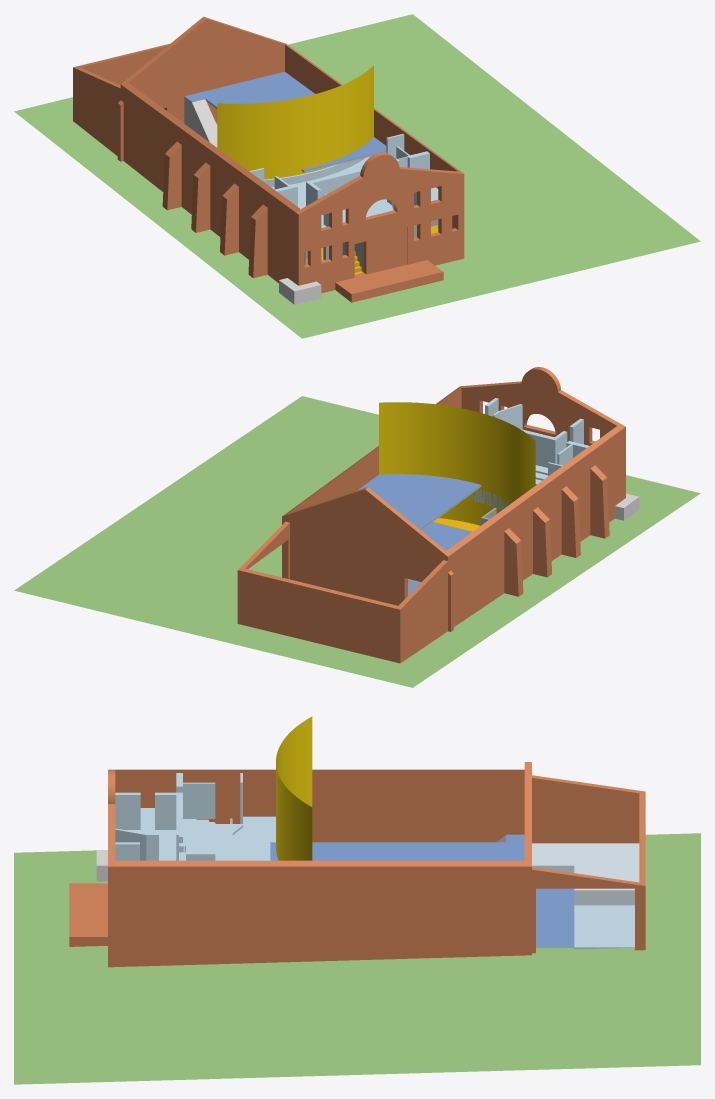
File: picturepalace2.gltf
The picture shows the model from 3 angles, top to bottom: view 1: azimuth 30°, elevation 25°; view 2: azimuth 150°, elevation 25°; view 3: azimuth 270°, elevation 25°; orthographic projection. The views are drawn at different scales.
Visible parts, largest first — view 1: mesh250_meshnode_250, mesh273_meshnode_273, mesh254_meshnode_254, mesh202_meshnode_202, mesh257_meshnode_257, mesh6_meshnode_6, mesh271_meshnode_271, mesh293_meshnode_293, mesh351_meshnode_351, mesh281_meshnode_281, mesh275_meshnode_275, mesh270_meshnode_270 (+9 smaller); view 2: mesh250_meshnode_250, mesh273_meshnode_273, mesh202_meshnode_202, mesh259_meshnode_259, mesh272_meshnode_272, mesh253_meshnode_253, mesh6_meshnode_6, mesh271_meshnode_271, mesh293_meshnode_293, mesh282_meshnode_282, mesh269_meshnode_269, mesh12_meshnode_12 (+5 smaller); view 3: mesh250_meshnode_250, mesh276_meshnode_276, mesh260_meshnode_260, mesh274_meshnode_274, mesh202_meshnode_202, mesh6_meshnode_6, mesh283_meshnode_283, mesh236_meshnode_236, mesh244_meshnode_244, mesh18_meshnode_18, mesh255_meshnode_255, mesh281_meshnode_281 (+7 smaller).
Boxes of the visible parts, box(x1,y1,x2,y2) form: mesh250_meshnode_250: box(14, 14, 700, 338); mesh273_meshnode_273: box(73, 67, 298, 285); mesh254_meshnode_254: box(298, 155, 464, 293); mesh202_meshnode_202: box(217, 65, 373, 179); mesh257_meshnode_257: box(128, 19, 284, 123); mesh6_meshnode_6: box(184, 71, 386, 170); mesh271_meshnode_271: box(285, 45, 456, 228); mesh293_meshnode_293: box(121, 17, 299, 211); mesh351_meshnode_351: box(354, 227, 407, 274); mesh281_meshnode_281: box(335, 260, 443, 294); mesh275_meshnode_275: box(80, 46, 166, 84); mesh270_meshnode_270: box(253, 208, 267, 278); mesh250_meshnode_250: box(14, 396, 700, 687); mesh273_meshnode_273: box(400, 427, 625, 663); mesh202_meshnode_202: box(379, 402, 535, 525); mesh259_meshnode_259: box(282, 489, 447, 605); mesh272_meshnode_272: box(237, 570, 400, 663); mesh253_meshnode_253: box(461, 369, 616, 445); mesh6_meshnode_6: box(357, 474, 480, 529); mesh271_meshnode_271: box(290, 387, 461, 512); mesh293_meshnode_293: box(365, 425, 622, 556); mesh282_meshnode_282: box(238, 521, 447, 609); mesh269_meshnode_269: box(590, 469, 604, 538); mesh12_meshnode_12: box(408, 522, 472, 595); mesh250_meshnode_250: box(14, 833, 700, 1084); mesh276_meshnode_276: box(108, 866, 531, 967); mesh260_meshnode_260: box(115, 769, 524, 842); mesh274_meshnode_274: box(532, 778, 639, 843); mesh202_meshnode_202: box(276, 716, 312, 860); mesh6_meshnode_6: box(270, 834, 524, 860); mesh283_meshnode_283: box(115, 762, 531, 866); mesh236_meshnode_236: box(532, 843, 639, 890); mesh244_meshnode_244: box(574, 905, 634, 947); mesh18_meshnode_18: box(536, 888, 574, 946); mesh255_meshnode_255: box(532, 869, 645, 953); mesh281_meshnode_281: box(69, 883, 107, 936).
Bounding box in the file's own units: 29.69 × 10.45 × 37.16.
